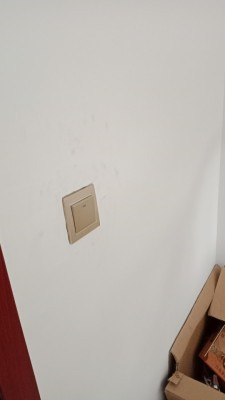switch: (68, 199, 98, 227)
